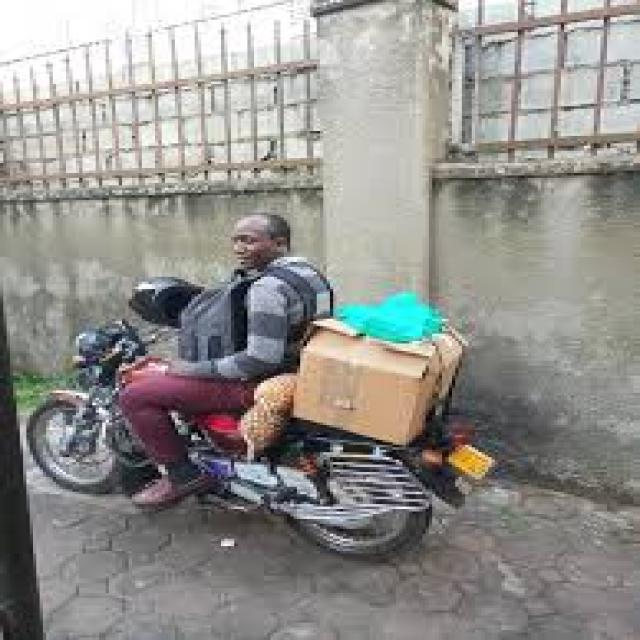bodaboda: (7, 252, 514, 588)
